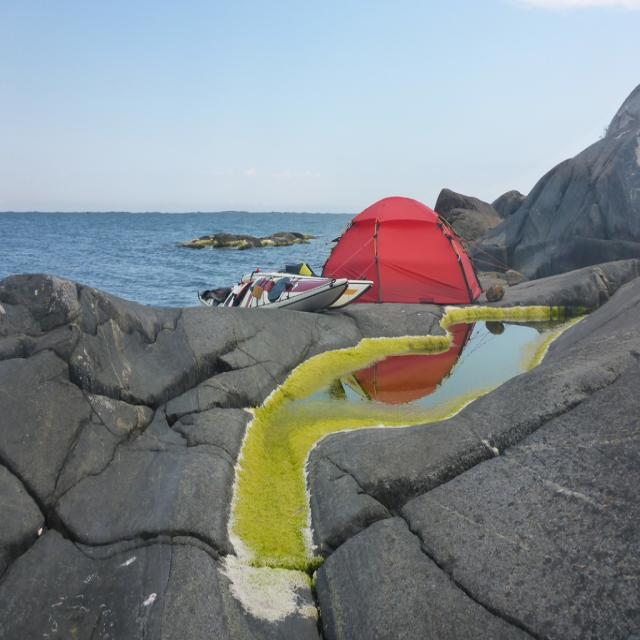Boat: (196, 269, 350, 313)
